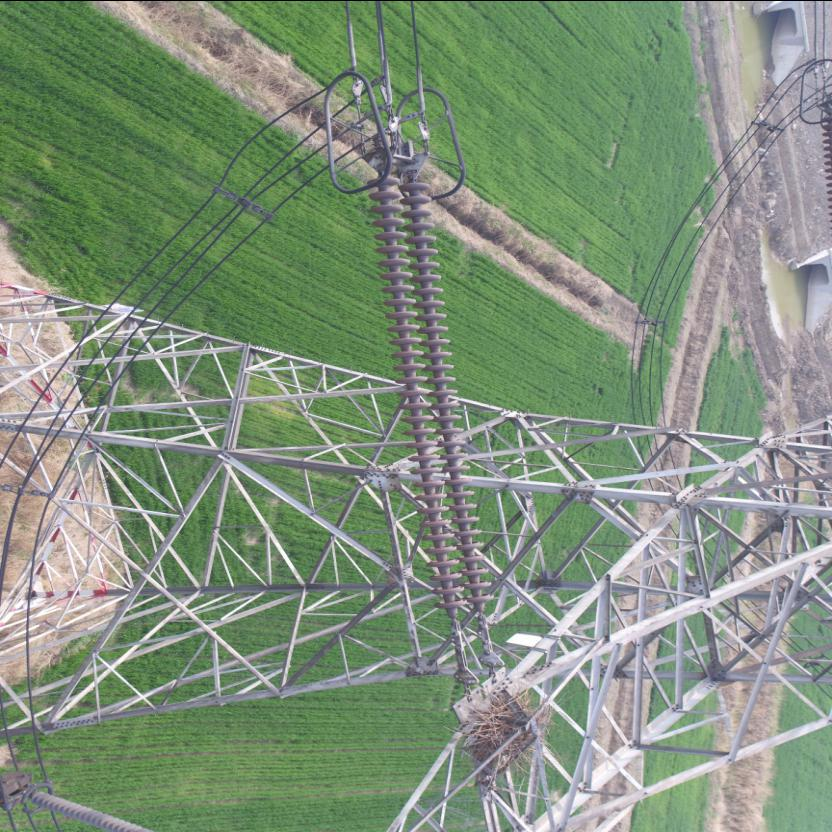insulator: (366, 167, 494, 644)
